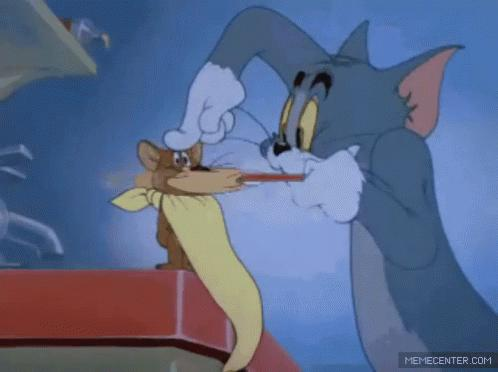jerry: (133, 139, 216, 270)
